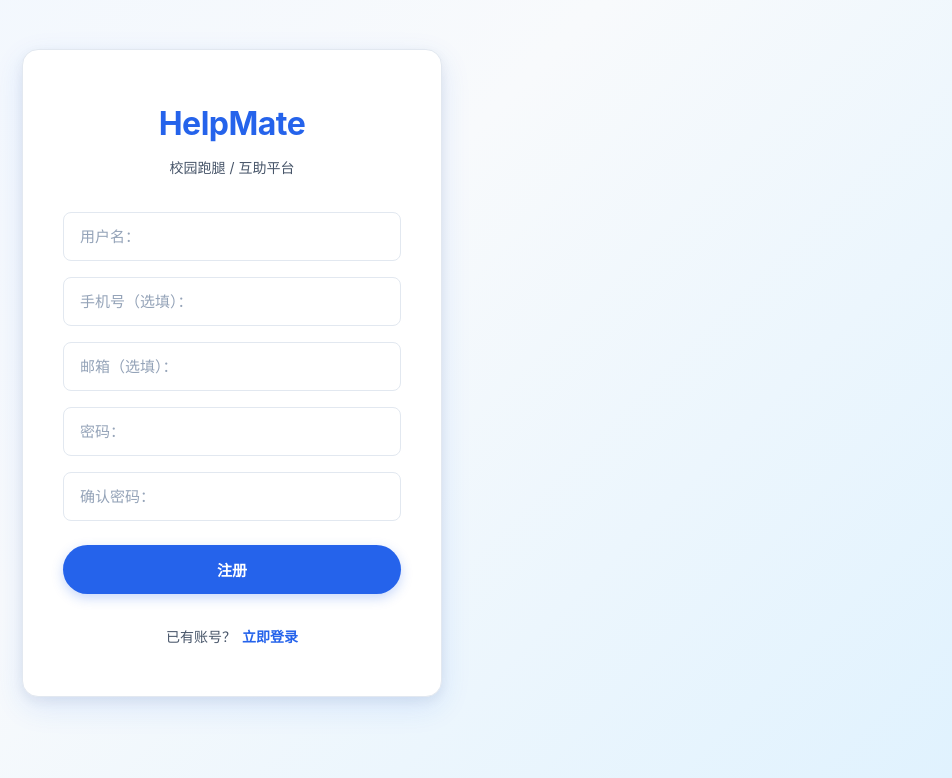
Test: Register Component › 手机号格式错误时应该显示错误
The width and height of the screenshot is (952, 778).
Type "testuser" into the field with placeholder "用户名：". click: (232, 236)
box: 63,212 -> 401,261
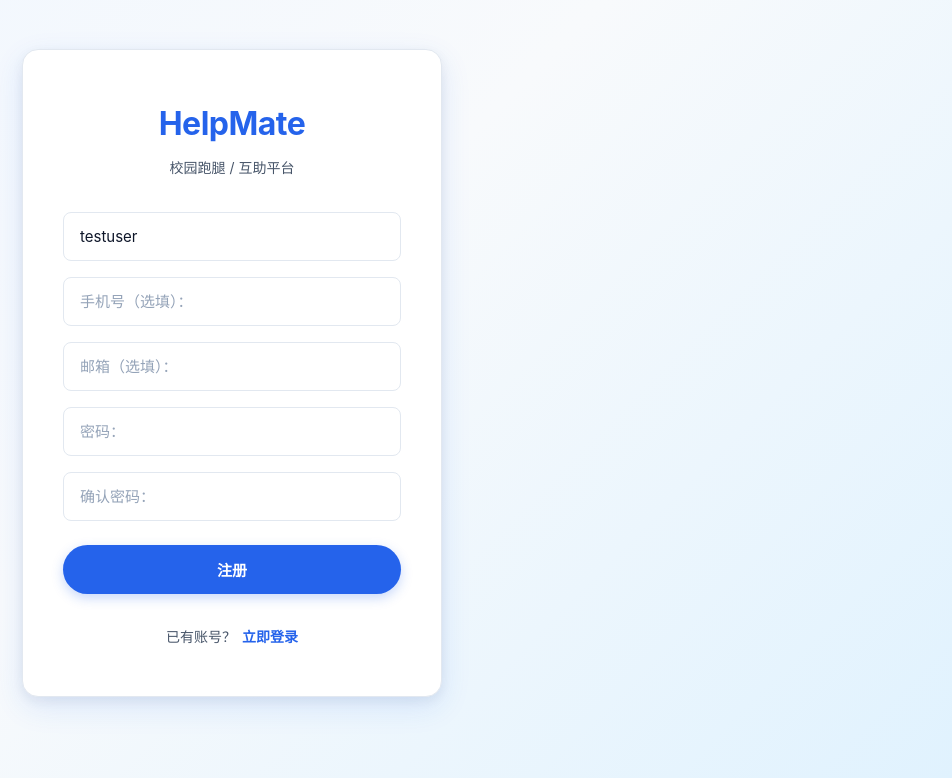
Type "12345" into the field with placeholder "手机号（选填）：". click: (232, 301)
box: 63,277 -> 401,326
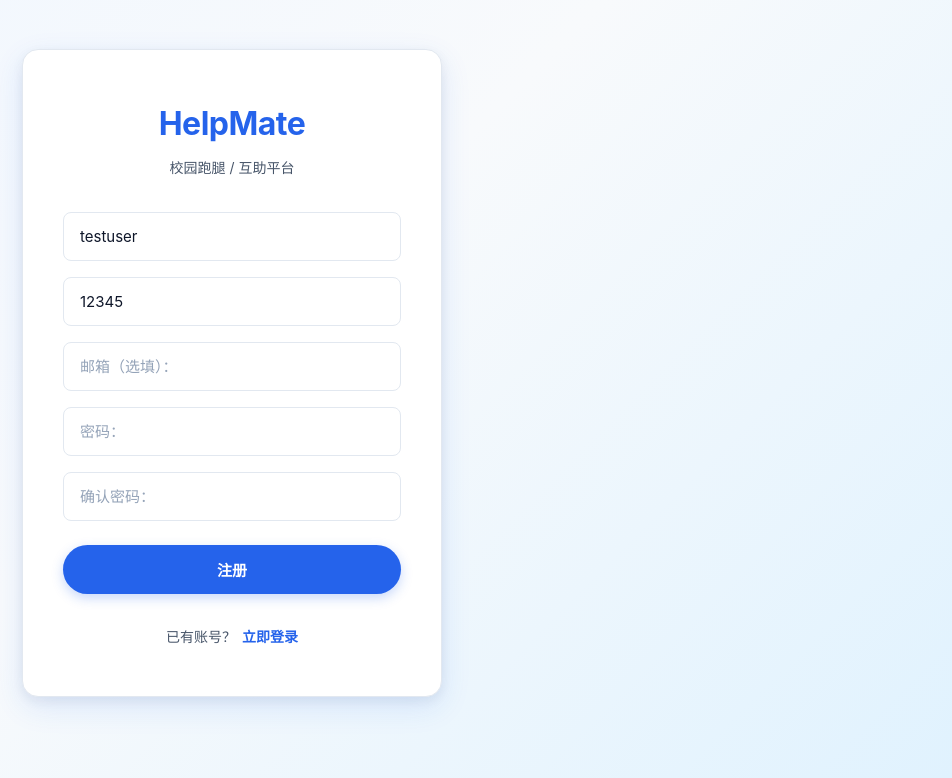
Type "123456" into the password field with placeholder "密码：". click: (232, 431)
box: 63,407 -> 401,456
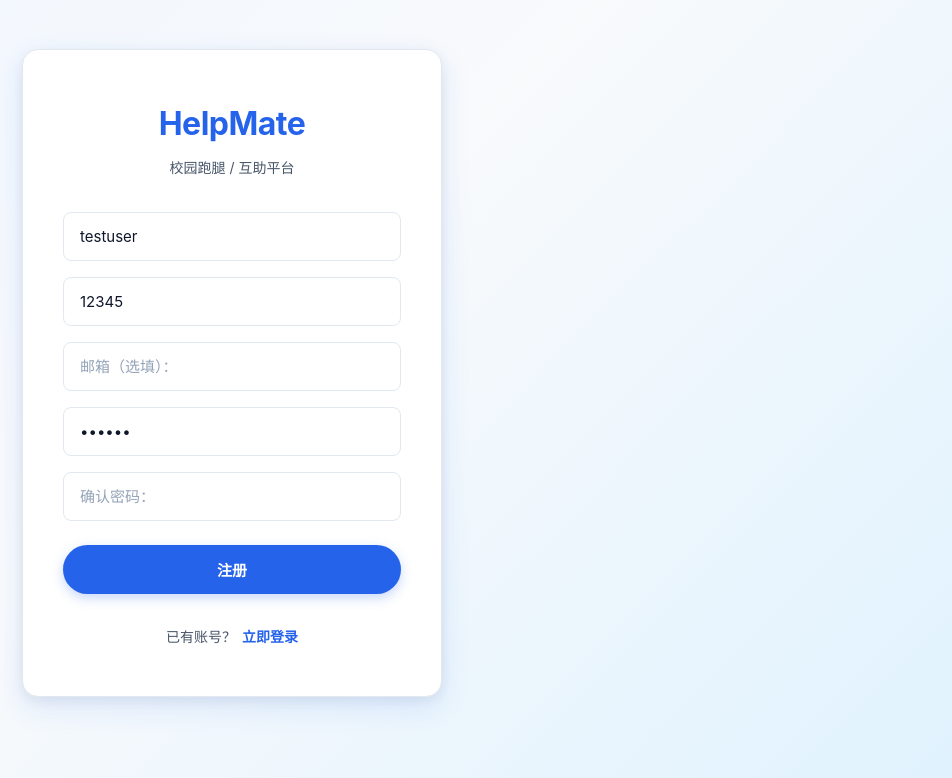
Type "123456" into the password field with placeholder "确认密码：". click: (232, 496)
box: 63,472 -> 401,521
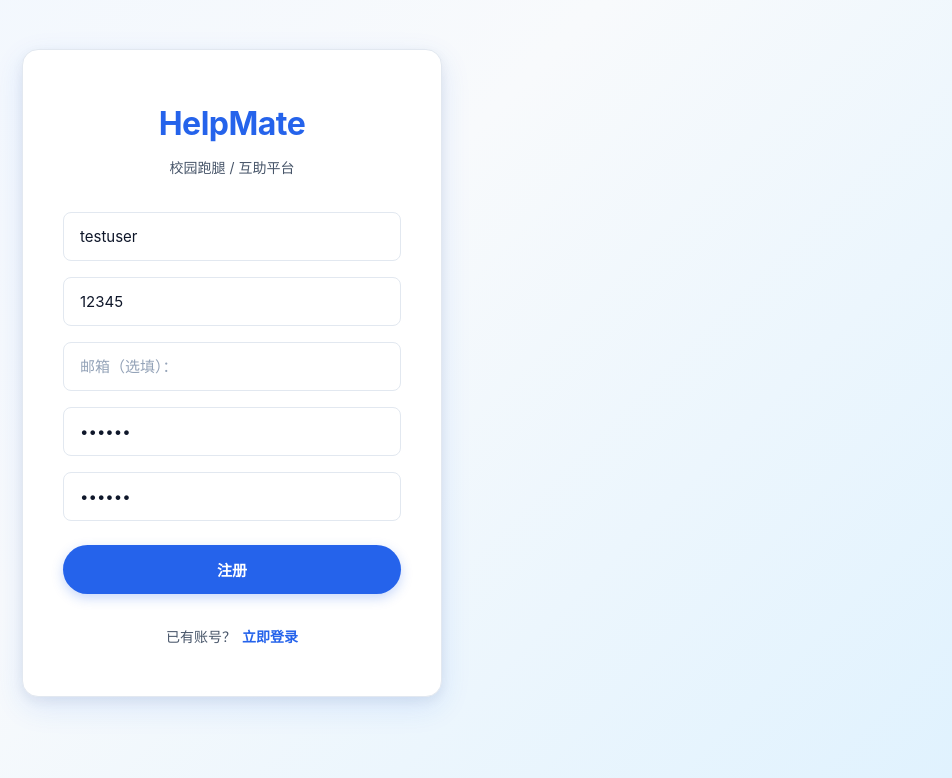
Click the button "注册". click: (232, 569)
box: 63,545 -> 401,594
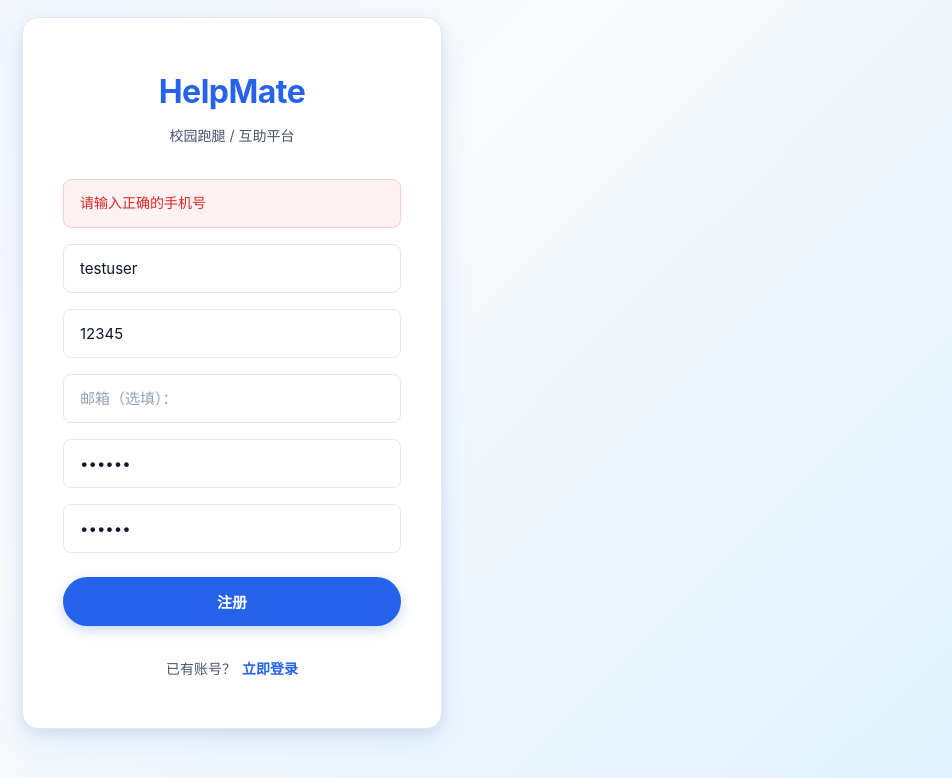
Check: the text "请输入正确的手机号" is shown, box 63,179 -> 401,228
